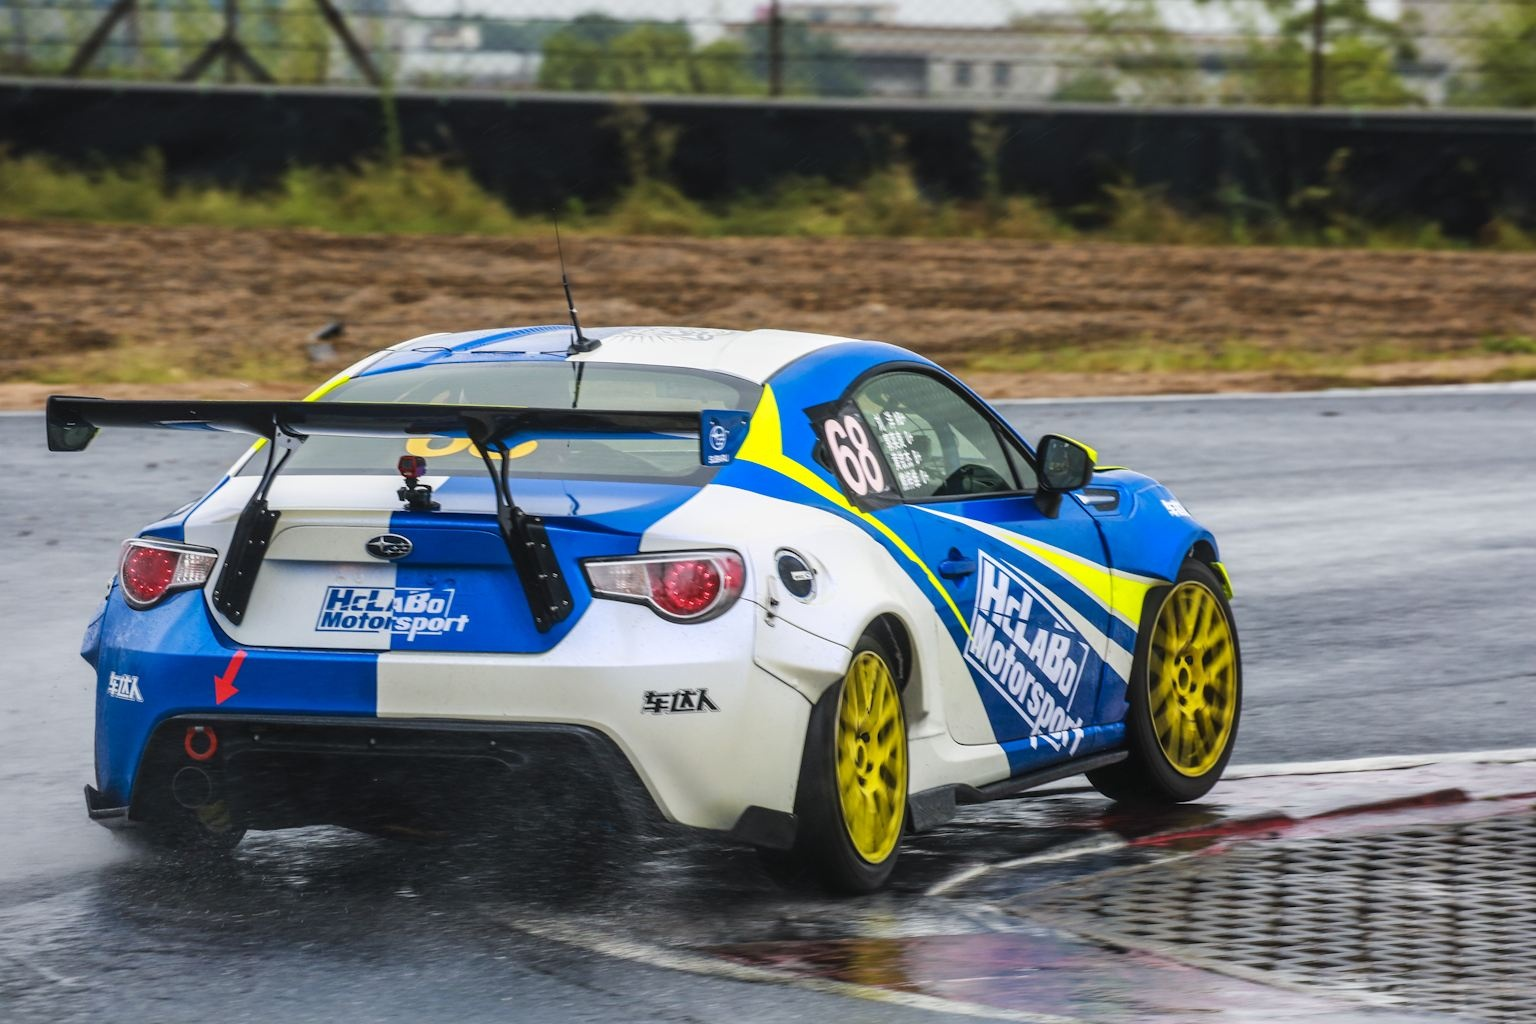racing car: (83, 307, 1248, 889)
